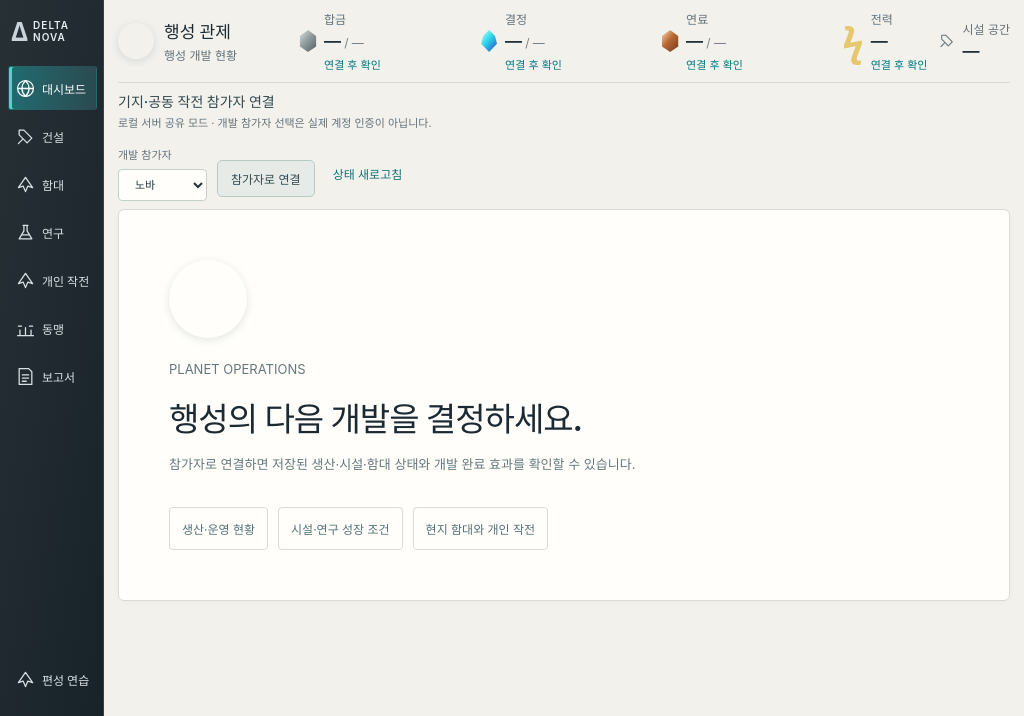
Test: command center › preserves newer storage written between load and the first effect
Step 1. Click the button "편성 연습" → (53, 680), box [8,658,97,702]
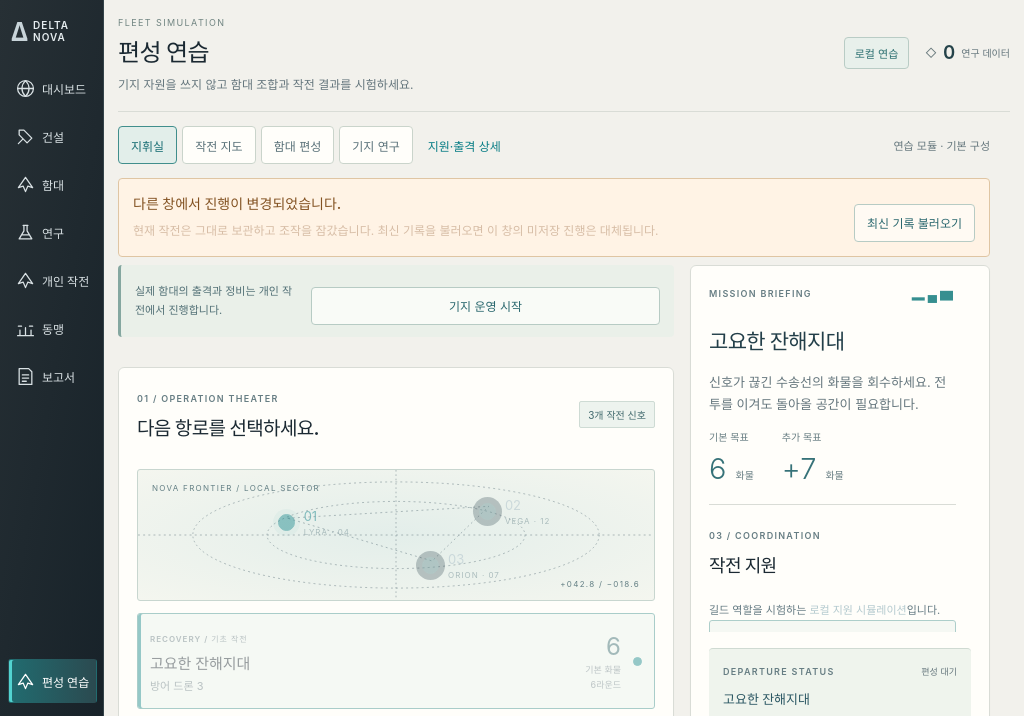
expect the message shows "다른 창": met, box [133,195,341,212]
